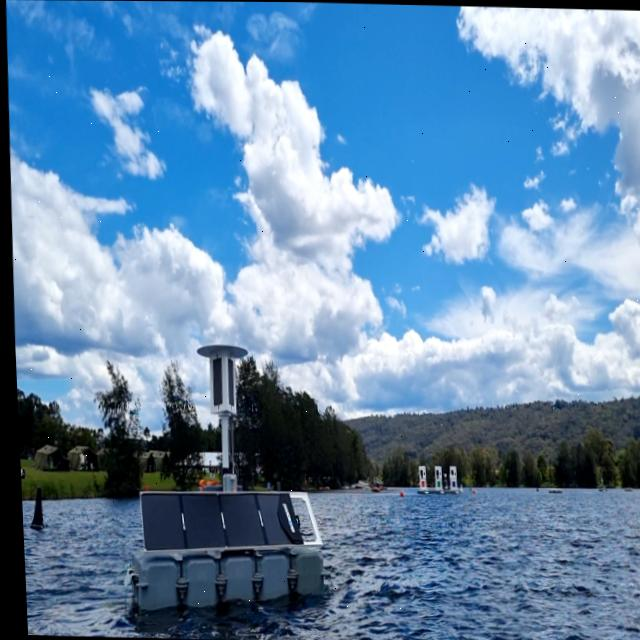led: (205, 356, 221, 408), (221, 354, 233, 409)
